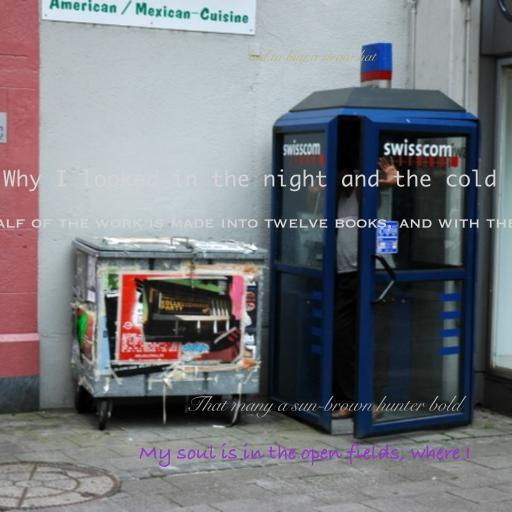Bradley Hand: (139, 442, 471, 467)
Copperplate: (0, 217, 512, 231)
Monaco: (3, 169, 497, 192)
Snell Roundhand: (185, 395, 461, 418), (238, 49, 376, 66)
